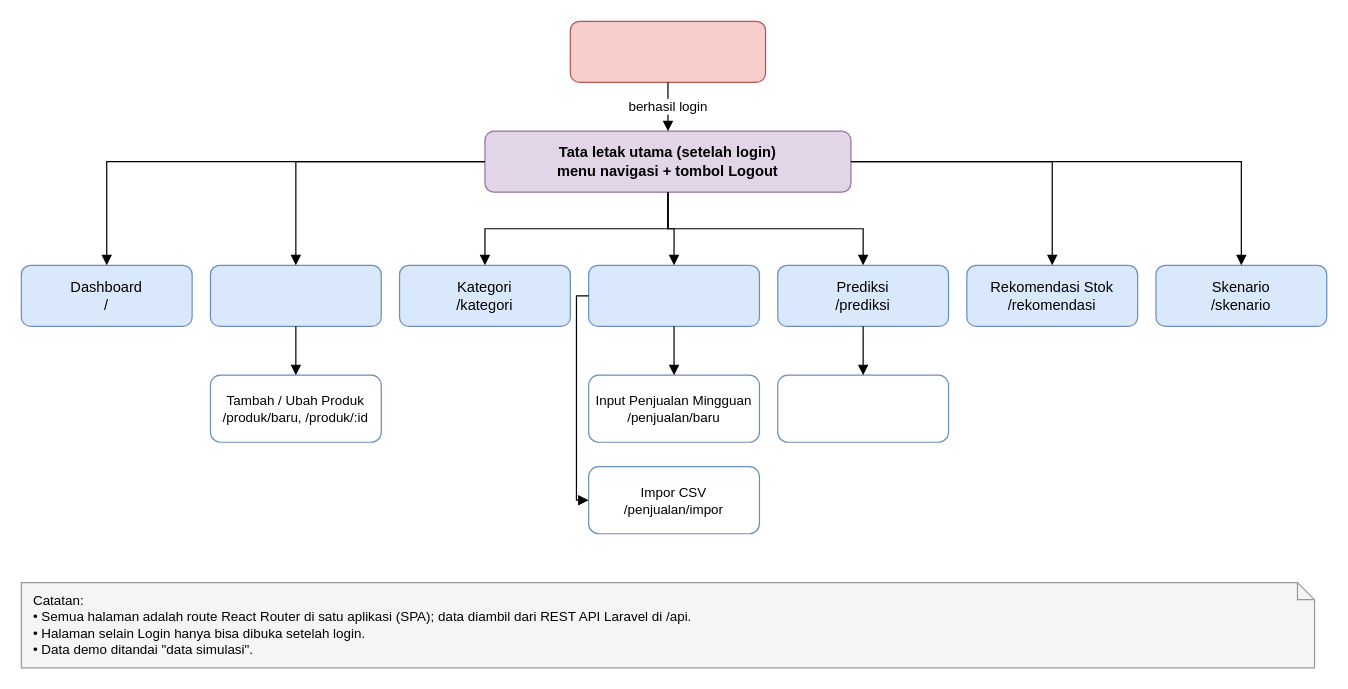
This 1348x689 diagram has some shape labels left out. The shapes that lost their labels are listed below. From the top down, each one's box as (x1, y1, x2, y2) in pixels, then its label:
(569, 20, 766, 82): Login /login
(209, 264, 381, 326): Produk /produk
(587, 264, 759, 326): Penjualan /penjualan
(777, 374, 949, 442): Detail Prediksi per Produk /prediksi/:produkId
